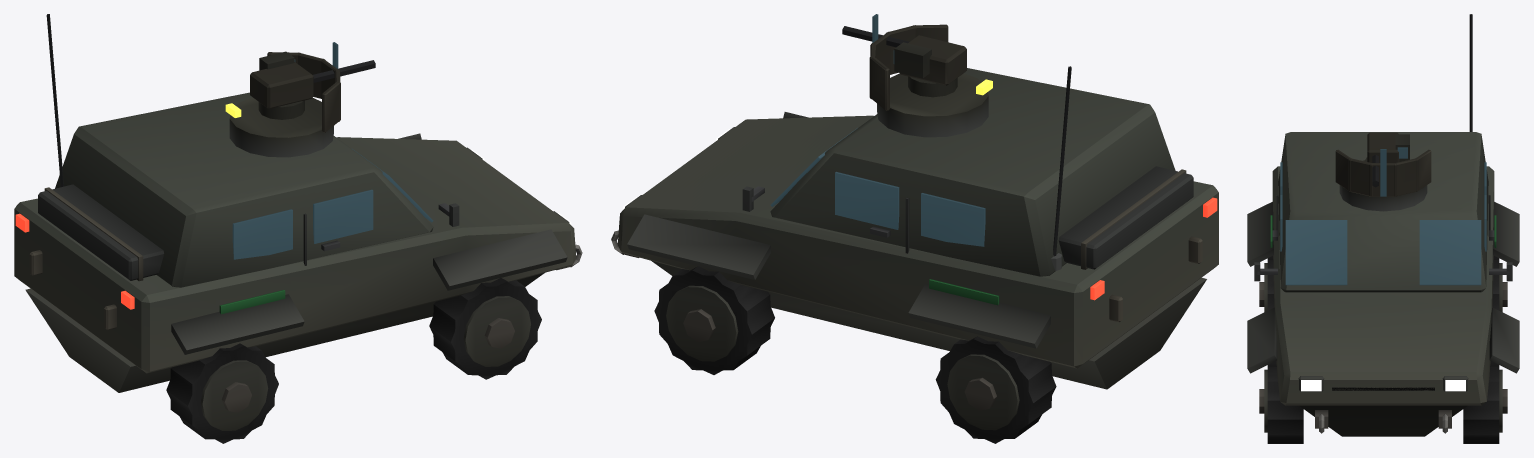
The model's file is u_scout.glb.
3 views of the same model, side by side, from view 1: azimuth 30°, elevation 25°; view 2: azimuth 150°, elevation 25°; view 3: azimuth 270°, elevation 25° (orthographic). The views are drawn at different scales.
Visible parts, largest first — view 1: Scout_Walls, Scout_Details, Scout_turret, Scout_Foundation, Scout_Frame; view 2: Scout_Walls, Scout_Details, Scout_turret, Scout_Foundation, Scout_Frame; view 3: Scout_Walls, Scout_Details, Scout_turret, Scout_Foundation, Scout_Frame.
Boxes of the visible parts, left/top/right/bottom form: Scout_Walls: left=14, top=92, right=576, bottom=392; Scout_Details: left=15, top=147, right=582, bottom=412; Scout_turret: left=46, top=14, right=375, bottom=187; Scout_Foundation: left=166, top=278, right=541, bottom=443; Scout_Frame: left=200, top=296, right=530, bottom=430; Scout_Walls: left=617, top=68, right=1218, bottom=389; Scout_Details: left=611, top=127, right=1217, bottom=410; Scout_turret: left=842, top=14, right=1071, bottom=270; Scout_Foundation: left=654, top=266, right=1056, bottom=443; Scout_Frame: left=666, top=285, right=1019, bottom=430; Scout_Walls: left=1247, top=132, right=1519, bottom=436; Scout_Details: left=1254, top=162, right=1512, bottom=433; Scout_turret: left=1335, top=14, right=1472, bottom=211; Scout_Foundation: left=1267, top=256, right=1499, bottom=443; Scout_Frame: left=1264, top=263, right=1502, bottom=432.
Bounding box in the file's own units: 0.89 × 0.6281 × 0.5284.
